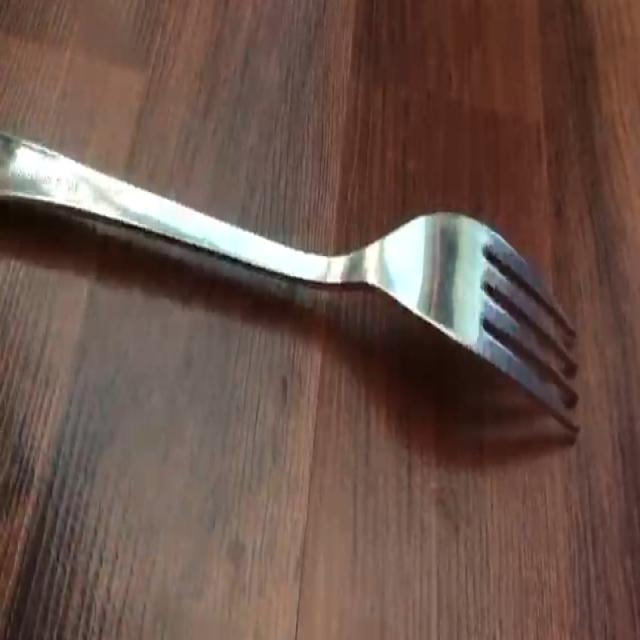spoon: (0, 134, 580, 433)
